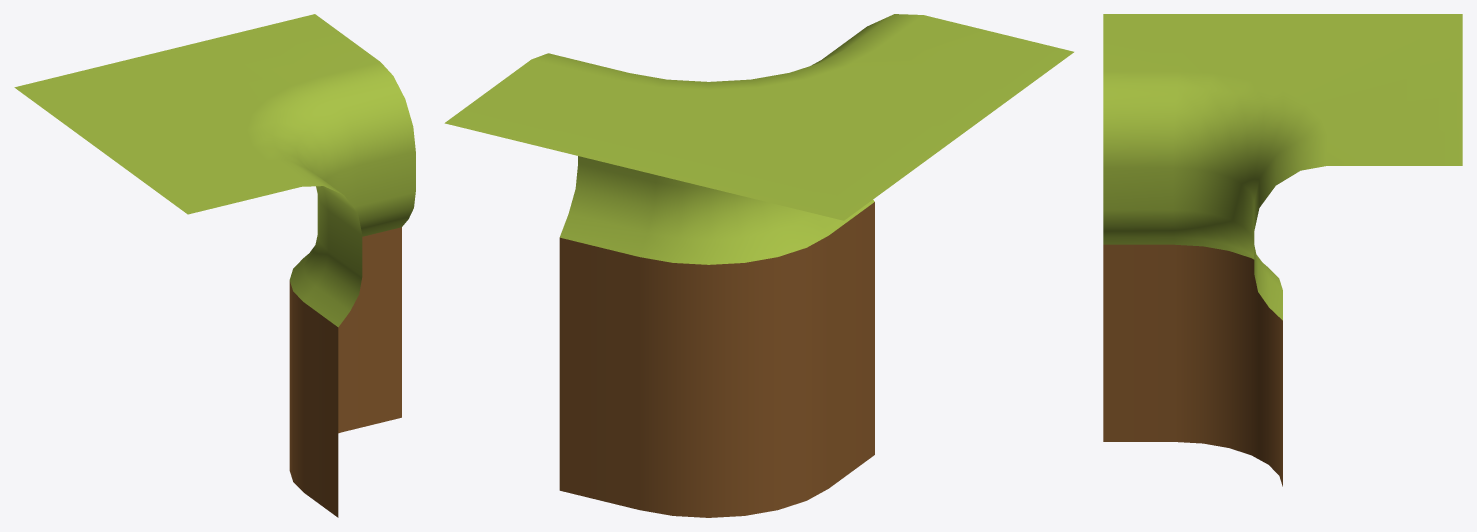
Rendered from QuinaInterna.fbx.
The picture shows the model from 3 angles, left to right: view 1: azimuth 30°, elevation 25°; view 2: azimuth 150°, elevation 25°; view 3: azimuth 270°, elevation 25°; orthographic projection. The views are drawn at different scales.
Visible parts, largest first — view 1: CurvaInterna; view 2: CurvaInterna; view 3: CurvaInterna.
Boxes of the visible parts, x1=… form: CurvaInterna: x1=14, y1=14, x2=415, y2=517; CurvaInterna: x1=444, y1=14, x2=1073, y2=517; CurvaInterna: x1=1103, y1=14, x2=1462, y2=486.
Size of the model in its own units: 100 by 108 by 100.
